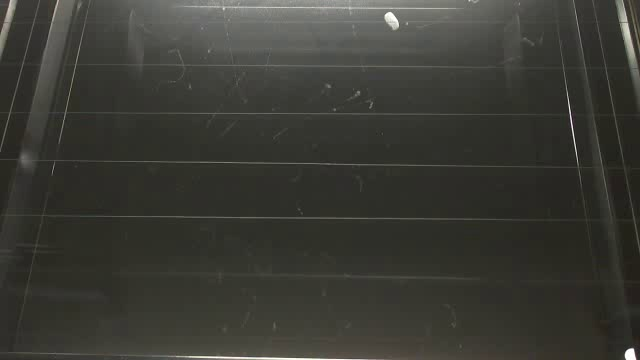Alfa: (382, 8, 402, 32)
